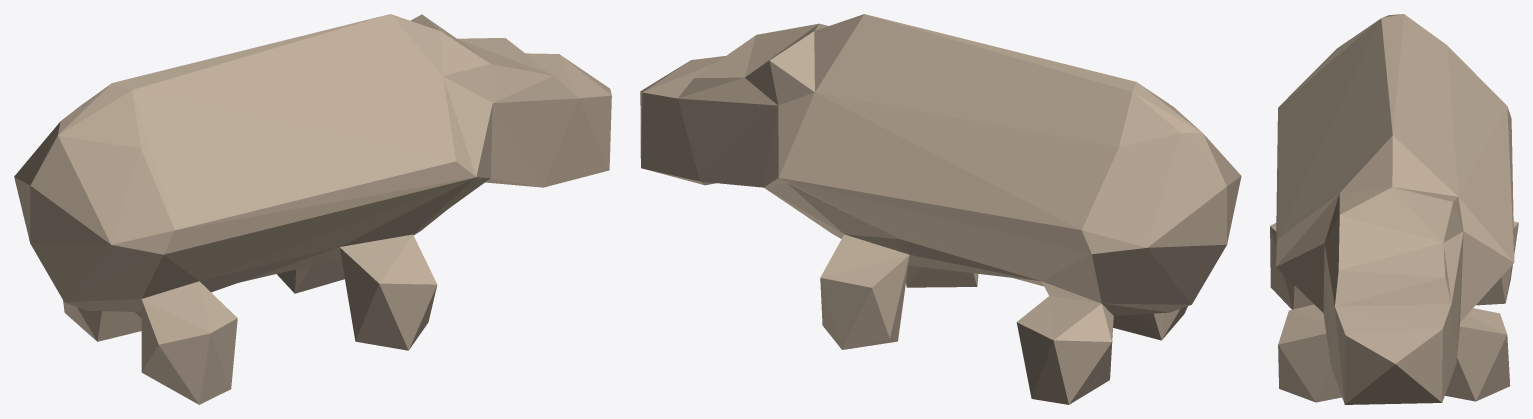
3 views of the same model, side by side, from view 1: azimuth 30°, elevation 25°; view 2: azimuth 150°, elevation 25°; view 3: azimuth 270°, elevation 25° (orthographic). The views are drawn at different scales.
Parts seen in each view (by area): view 1: part0; view 2: part0; view 3: part0.
Boxes of the visible parts, x1,y1,x2,y2 form: part0: (14, 14, 611, 404); part0: (640, 14, 1241, 404); part0: (1270, 14, 1518, 404).
Size of the model in its own units: 3.73 by 1.76 by 1.44.
